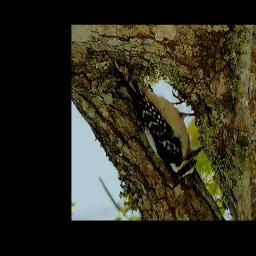Woodpecker: (111, 62, 205, 183)
